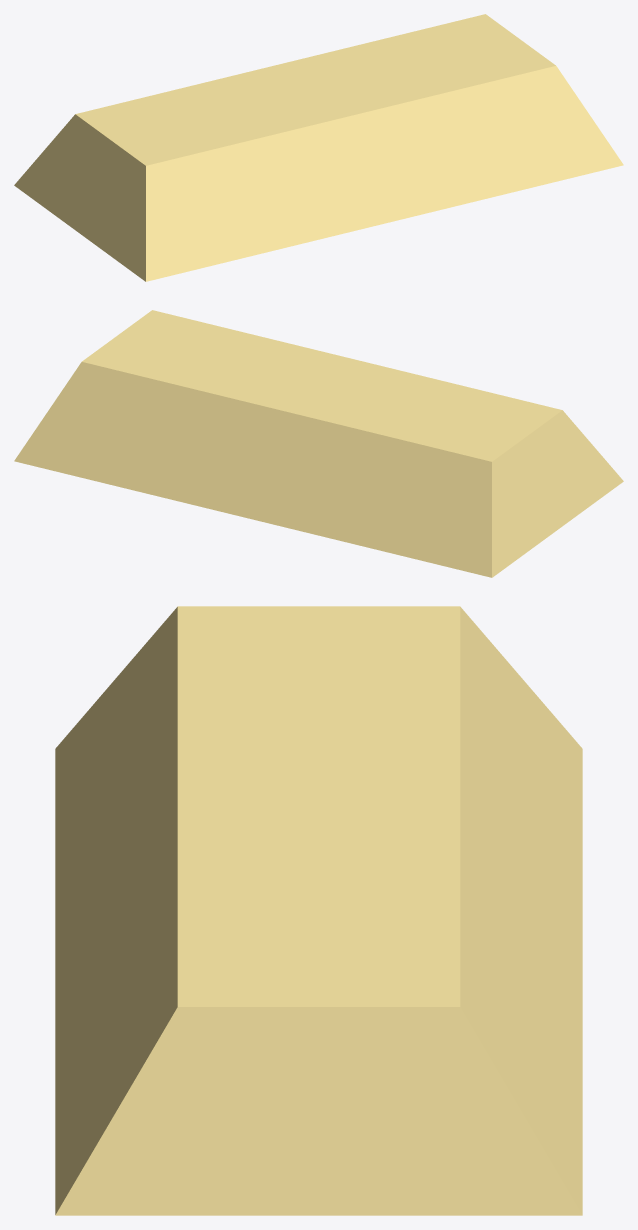
File: GoldBar.fbx
3 renders of one model, top to bottom at view 1: azimuth 30°, elevation 25°; view 2: azimuth 150°, elevation 25°; view 3: azimuth 270°, elevation 25°, orthographic. The views are drawn at different scales.
Visible parts, largest first — view 1: Bar; view 2: Bar; view 3: Bar.
Part boxes in pixels (<box>): Bar: <box>14,14,623,281</box>; Bar: <box>14,310,623,577</box>; Bar: <box>55,606,582,1215</box>.
Bounding box in the file's own units: 189 × 32.47 × 90.06.
